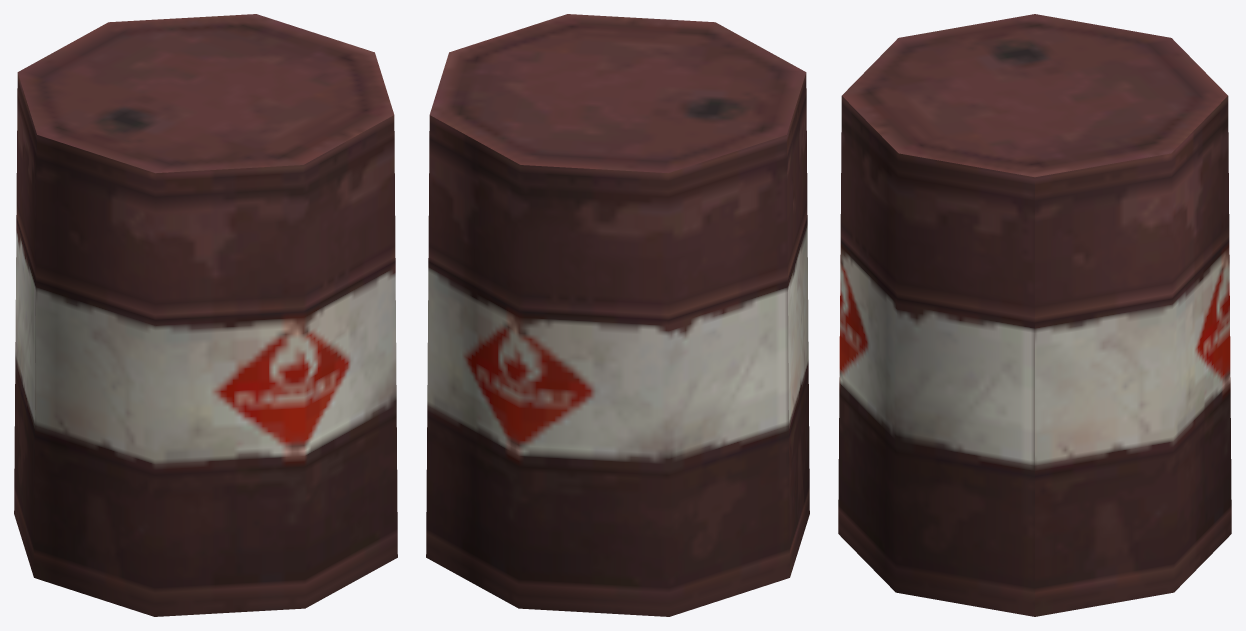
File: flammable_drum.obj
The picture shows the model from 3 angles, left to right: view 1: azimuth 30°, elevation 25°; view 2: azimuth 150°, elevation 25°; view 3: azimuth 270°, elevation 25°; orthographic projection.
Visible parts, largest first — view 1: flammable_drum; view 2: flammable_drum; view 3: flammable_drum.
Boxes of the visible parts, bbox=[...] form: flammable_drum: bbox=[14, 14, 397, 616]; flammable_drum: bbox=[426, 14, 809, 616]; flammable_drum: bbox=[838, 14, 1231, 616].
Bounding box in the file's own units: 0.814 × 1 × 0.814.
1 material, 1 textured.
